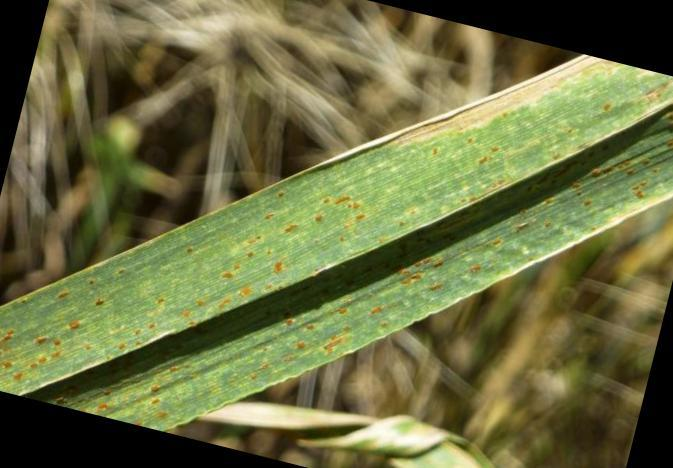Wheat: (142, 168, 390, 340)
